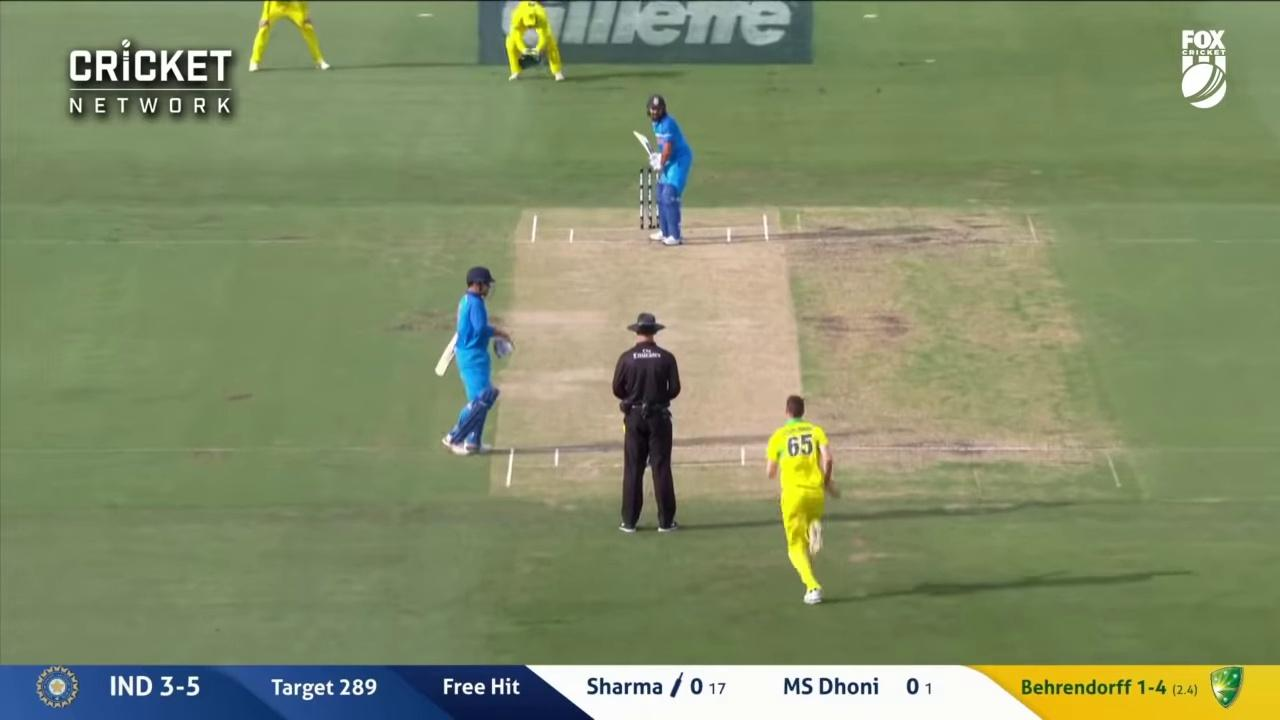batsman: (632, 95, 694, 244)
